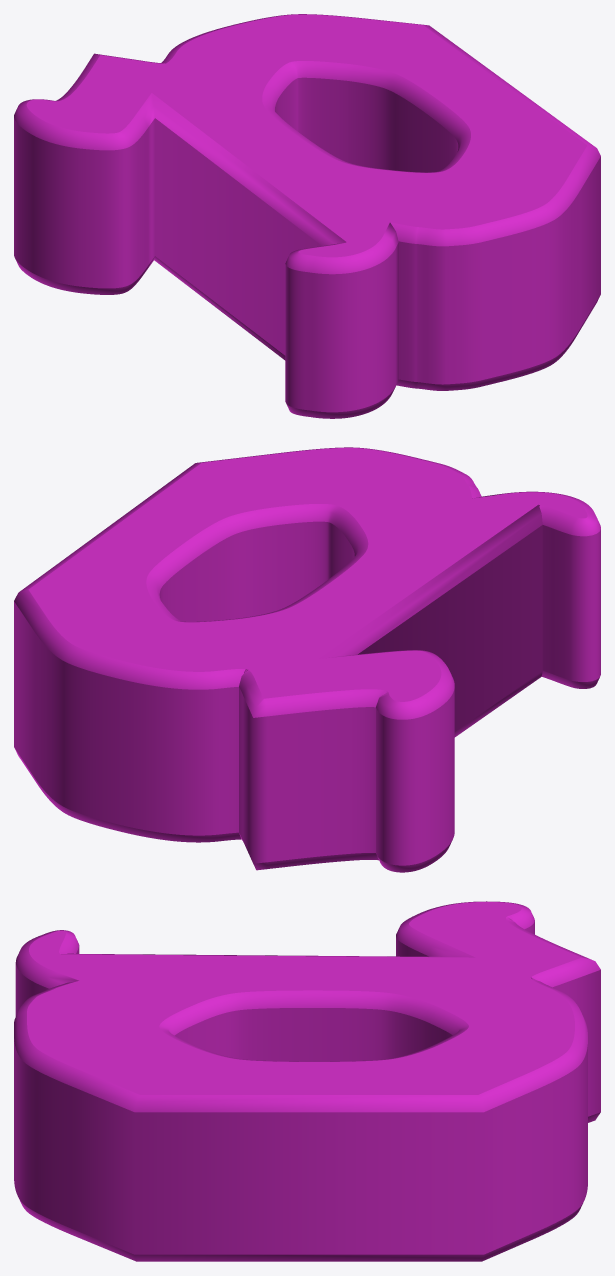
File: Letter_a_Small.fbx
The picture shows the model from 3 angles, top to bottom: view 1: azimuth 30°, elevation 25°; view 2: azimuth 150°, elevation 25°; view 3: azimuth 270°, elevation 25°; orthographic projection. The views are drawn at different scales.
Parts seen in each view (by area): view 1: Letter_a; view 2: Letter_a; view 3: Letter_a.
Boxes of the visible parts, <box> form: Letter_a: <box>14,14,600,418</box>; Letter_a: <box>14,447,600,872</box>; Letter_a: <box>14,901,600,1261</box>.
Bounding box in the file's own units: 0.3687 × 0.14 × 0.4483.
